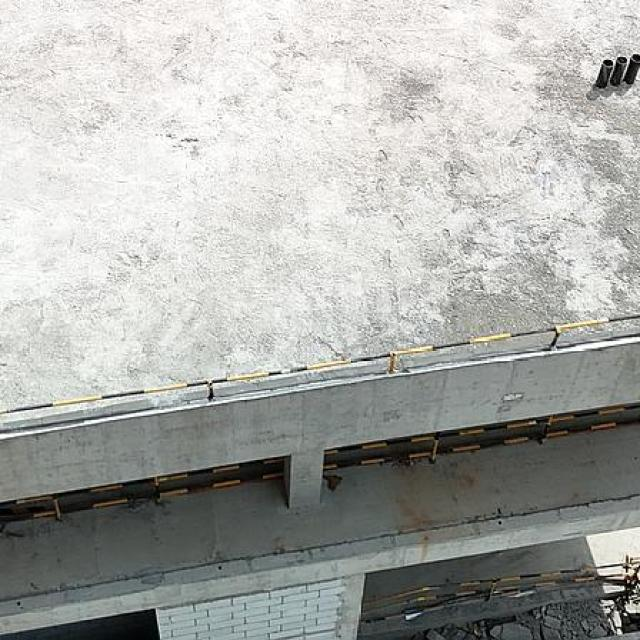edge_guardrail: (0, 311, 640, 415), (321, 404, 640, 470), (16, 457, 286, 522), (359, 563, 626, 627)
